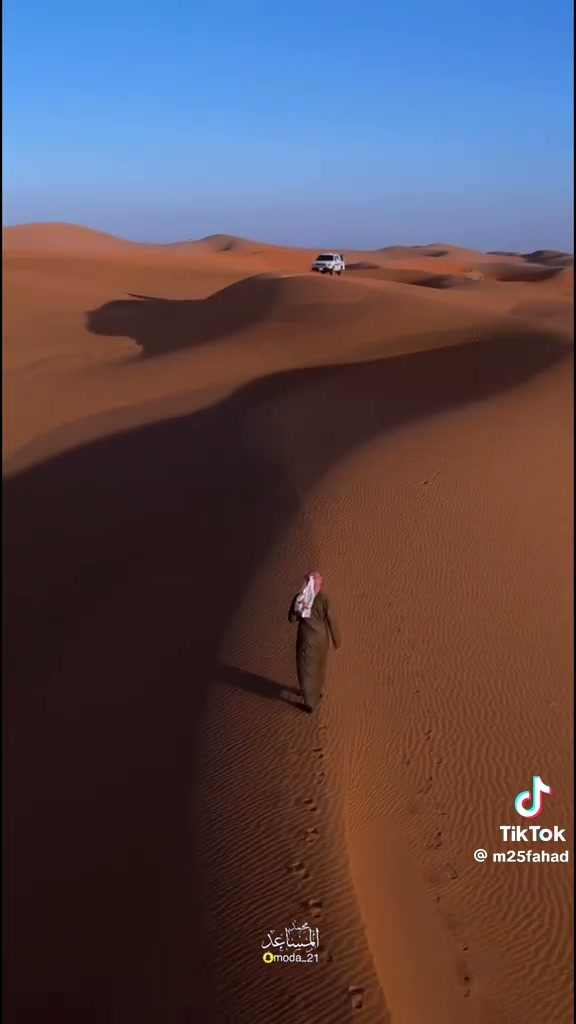human: (289, 572, 339, 712)
human_foot_print: (288, 860, 309, 880), (303, 898, 321, 919), (348, 986, 363, 1009), (426, 829, 441, 848), (301, 797, 318, 813), (304, 826, 319, 842), (313, 769, 324, 782), (313, 746, 323, 759), (463, 946, 466, 950)
